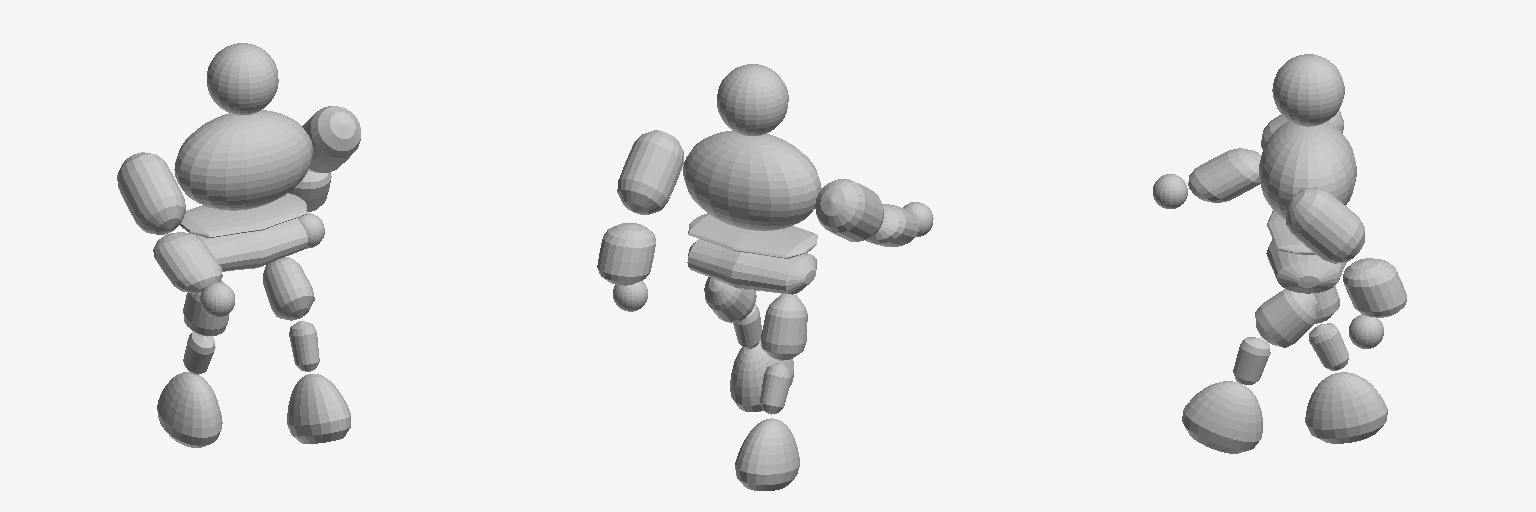
Rendered from PTwo2.obj.
The picture shows the model from 3 angles: view 1: azimuth 30°, elevation 25°; view 2: azimuth 150°, elevation 25°; view 3: azimuth 270°, elevation 25°; orthographic projection.
Bounding box in the file's own units: 4.03 × 6.48 × 3.76.